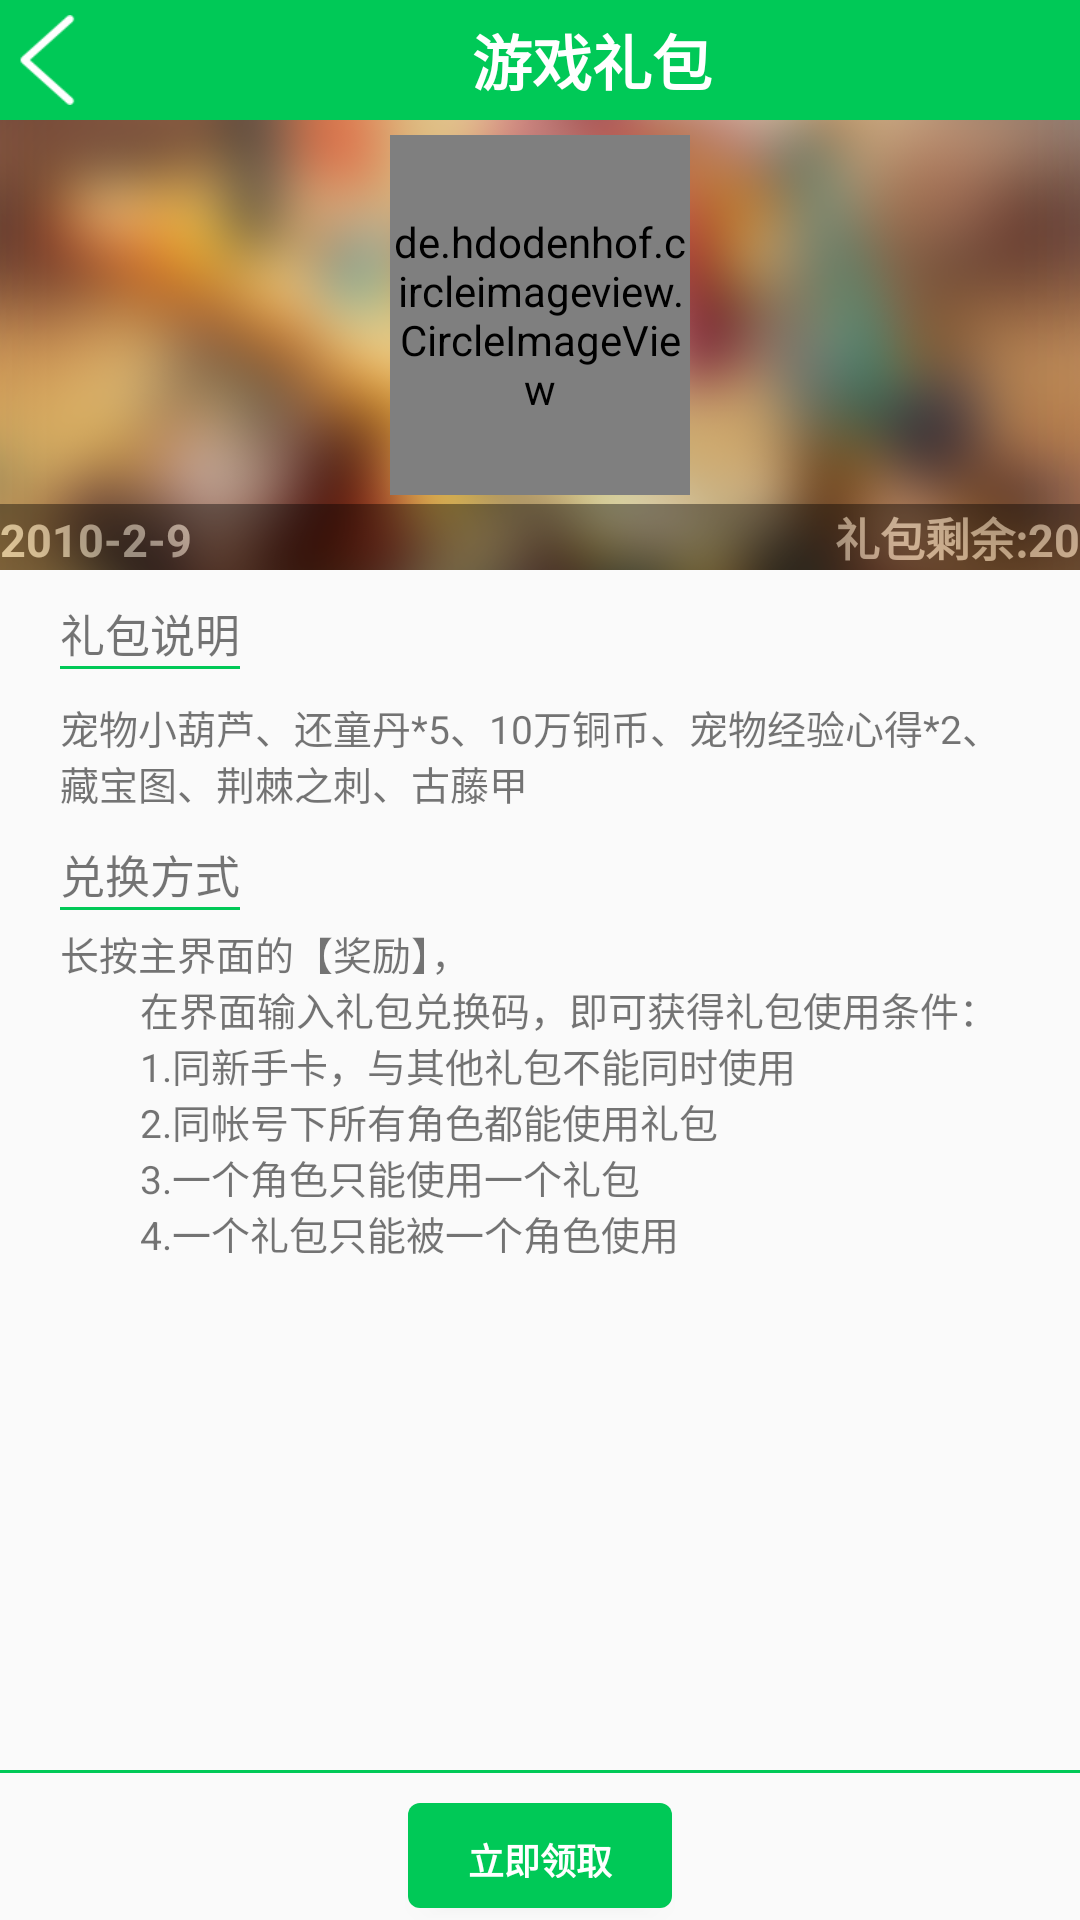

Screen size 1080 x 1920. Icon name, then its box in pixels as (x1, y1, x2, y2):
back: (20, 15, 75, 105)
